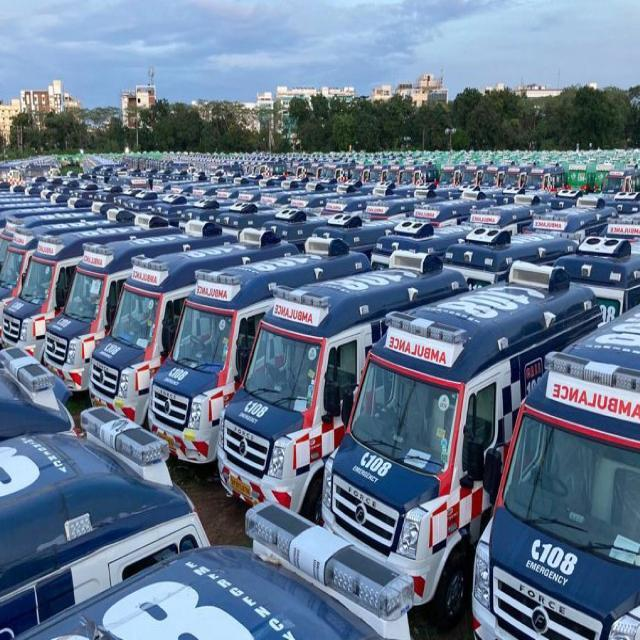ambulance: (12, 163, 640, 640)
